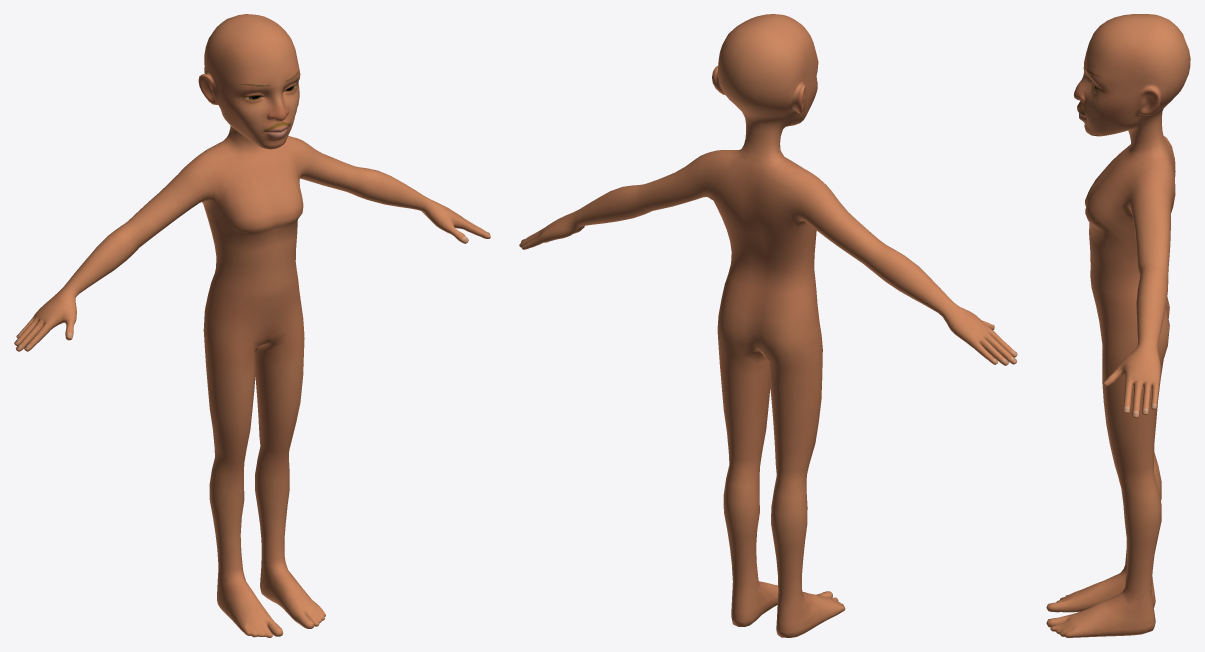
File: frame_0061.glb
3 renders of one model, left to right at view 1: azimuth 30°, elevation 25°; view 2: azimuth 150°, elevation 25°; view 3: azimuth 270°, elevation 25°, orthographic. The views are drawn at different scales.
Visible parts, largest first — view 1: frame_0061_head_geo; view 2: frame_0061_head_geo; view 3: frame_0061_head_geo.
Boxes of the visible parts, box(x1,y1,x2,y2) form: frame_0061_head_geo: box(14, 14, 490, 637); frame_0061_head_geo: box(519, 14, 1017, 637); frame_0061_head_geo: box(1046, 14, 1190, 637).
Size of the model in its own units: 1.28 by 1.5 by 0.3253.
Materials: 3 (3 with a texture image).
